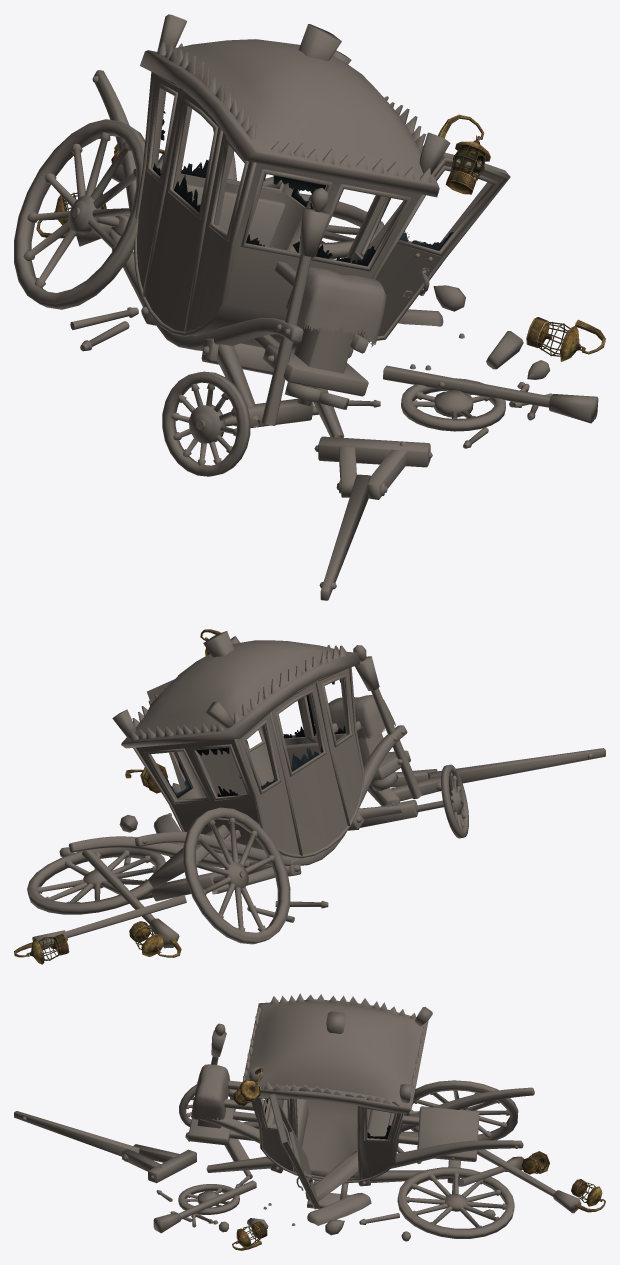
The model's file is Coach_broken.FBX.
The picture shows the model from 3 angles, top to bottom: view 1: azimuth 30°, elevation 25°; view 2: azimuth 150°, elevation 25°; view 3: azimuth 270°, elevation 25°; orthographic projection. The views are drawn at different scales.
Visible parts, largest first — view 1: Coach_broken; view 2: Coach_broken; view 3: Coach_broken.
Boxes of the visible parts, <box> form: Coach_broken: <box>14,14,605,600</box>; Coach_broken: <box>14,629,605,964</box>; Coach_broken: <box>14,993,605,1250</box>.
Size of the model in its own units: 422 by 293 by 773.
